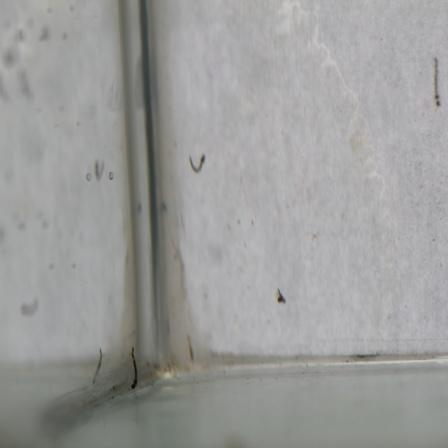Jentik-Nyamuk: (124, 342, 142, 393), (273, 285, 289, 311)
